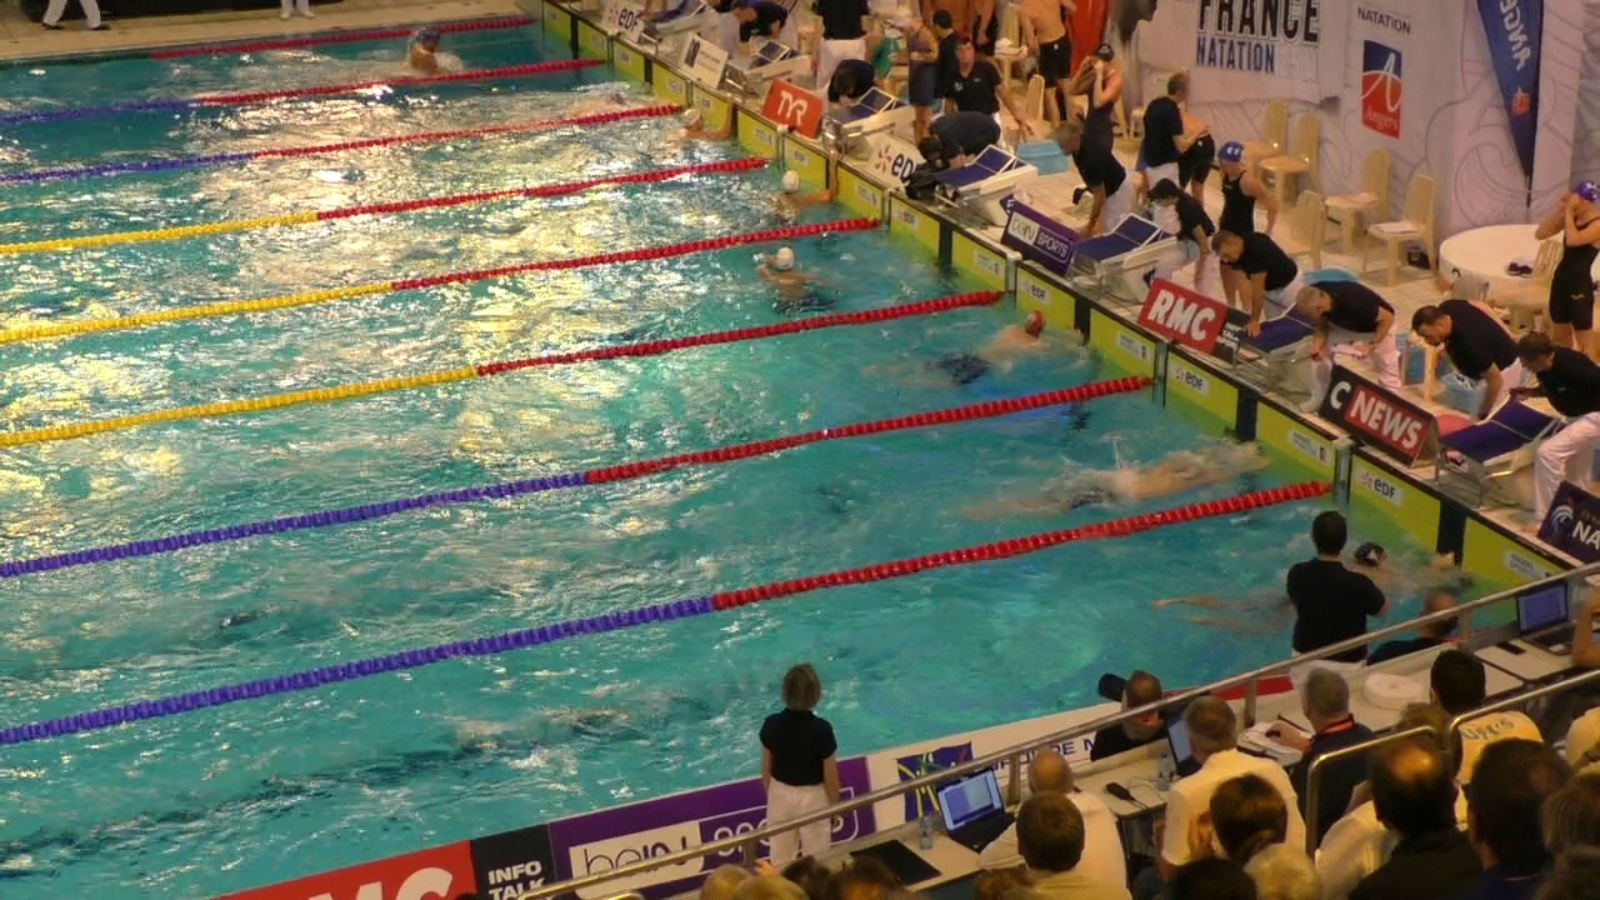swimmerwdd: (955, 432, 1269, 527), (1162, 543, 1405, 624), (891, 312, 1051, 400), (623, 100, 738, 169), (746, 247, 855, 315), (770, 148, 846, 227), (541, 76, 662, 125), (358, 27, 458, 73)
